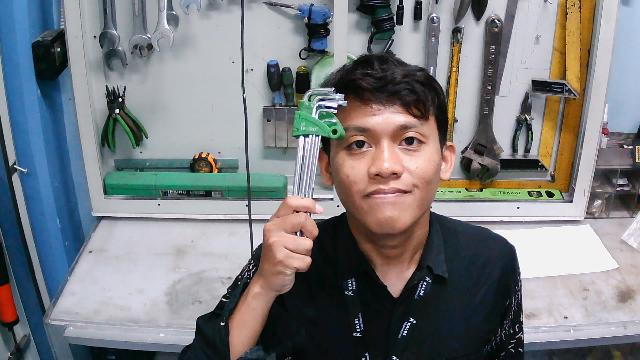kunci_l_bintang: (280, 82, 349, 258)
